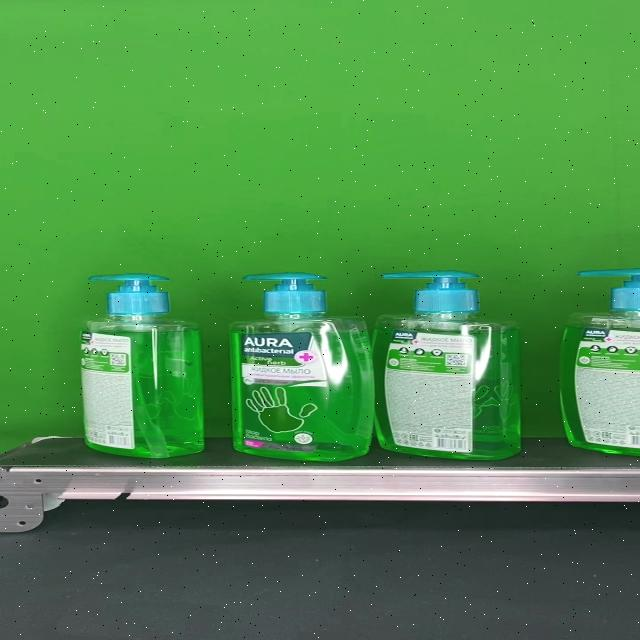Bottle: (371, 271, 521, 460), (228, 274, 374, 462), (80, 273, 204, 459)
Cap: (380, 272, 480, 314), (242, 273, 327, 315), (88, 274, 170, 314)
